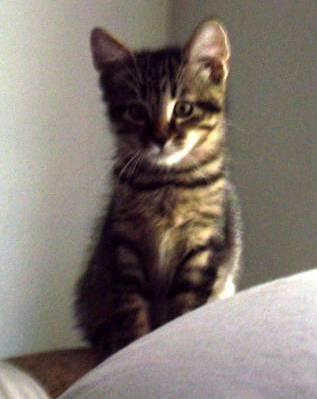cat: (76, 17, 241, 357)
